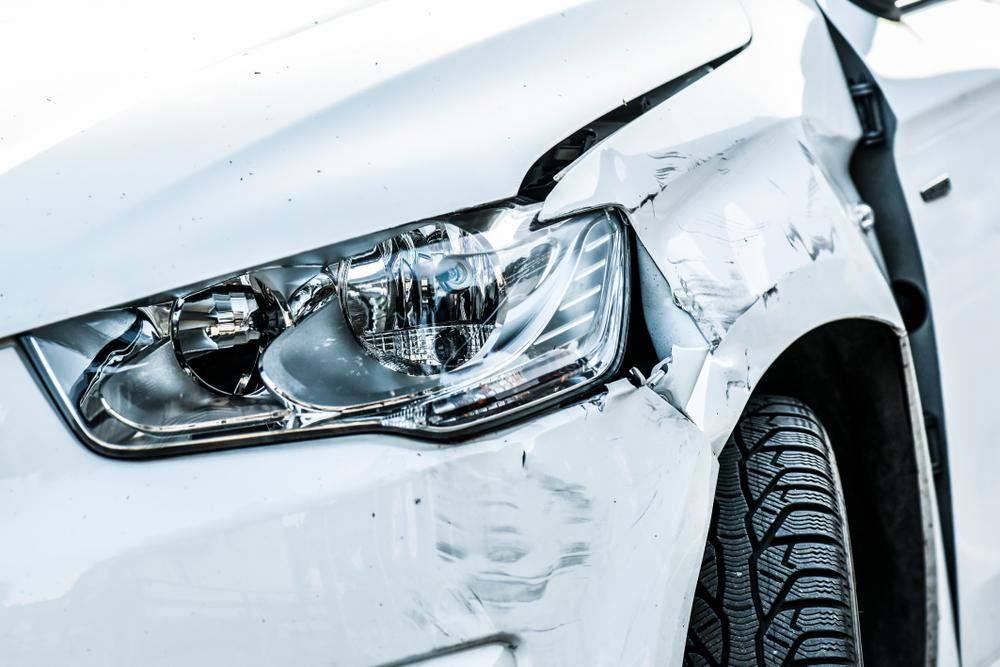dent: (632, 122, 858, 347), (416, 447, 583, 612)
lamp broken: (14, 206, 635, 457)
